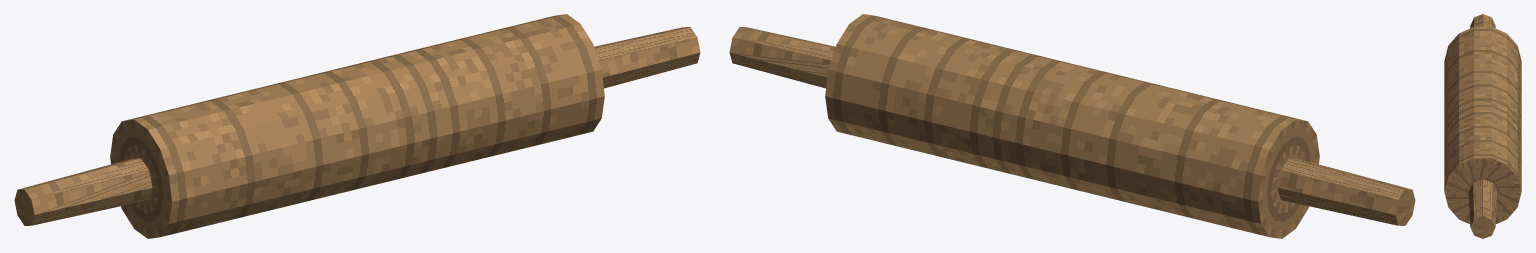
File: rolling_pin.glb
3 views of the same model, side by side, from view 1: azimuth 30°, elevation 25°; view 2: azimuth 150°, elevation 25°; view 3: azimuth 270°, elevation 25° (orthographic). The views are drawn at different scales.
Parts seen in each view (by area): view 1: block_maple roller, block_handle -1, block_handle 1; view 2: block_maple roller, block_handle -1, block_handle 1; view 3: block_maple roller, block_handle 1, block_handle -1.
Part boxes in pixels (x1,y1,x2,y2): block_maple roller: [110, 14, 604, 238]; block_handle -1: [14, 158, 152, 225]; block_handle 1: [594, 27, 700, 88]; block_maple roller: [825, 14, 1319, 238]; block_handle -1: [1277, 158, 1415, 225]; block_handle 1: [729, 27, 835, 88]; block_maple roller: [1444, 26, 1521, 223]; block_handle 1: [1468, 179, 1497, 238]; block_handle -1: [1470, 14, 1495, 28].
Bounding box in the file's own units: 0.46 × 0.0721 × 0.074.
1 material, 1 textured.
